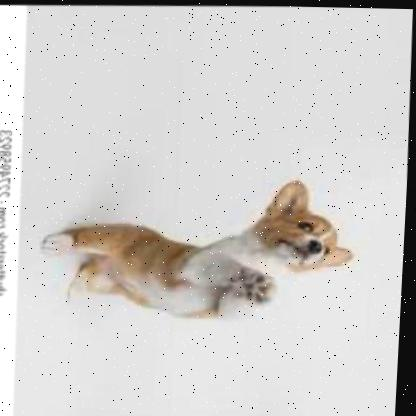dog: (35, 172, 358, 324)
